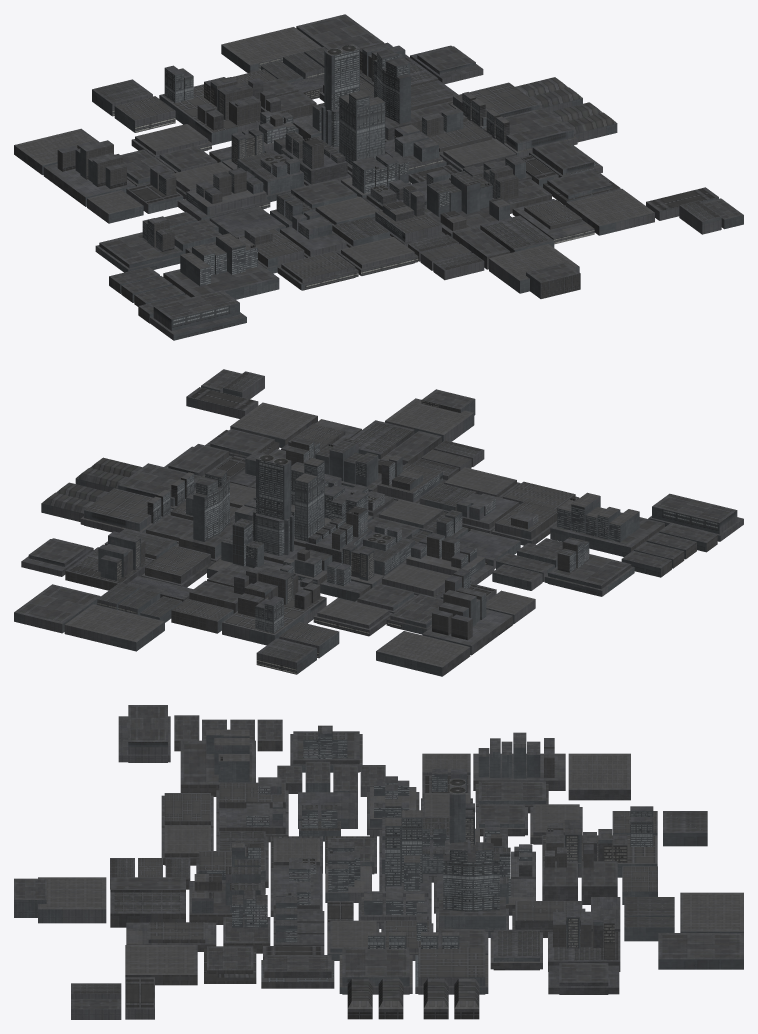
The model's file is Vesta.fbx.
3 views of the same model, one above another, from view 1: azimuth 30°, elevation 25°; view 2: azimuth 150°, elevation 25°; view 3: azimuth 270°, elevation 25° (orthographic). The views are drawn at different scales.
Parts seen in each view (by area): view 1: Vesta; view 2: Vesta; view 3: Vesta.
Boxes of the visible parts, box(x1,y1,x2,y2) form: Vesta: box(14, 14, 743, 340); Vesta: box(14, 369, 743, 676); Vesta: box(14, 705, 743, 1019).
Size of the model in its own units: 3626 by 673 by 3792.
